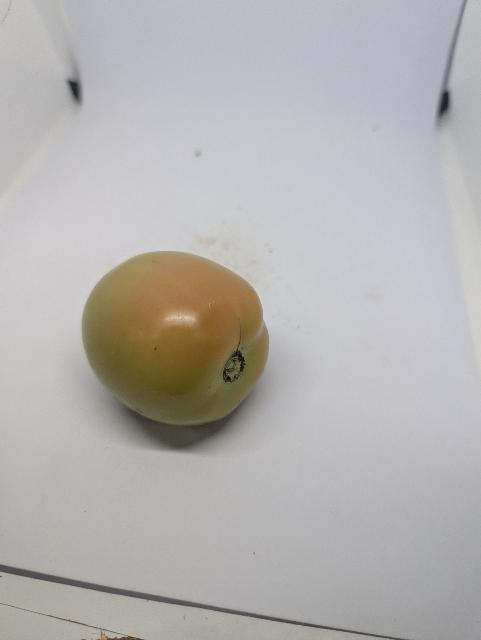breaker: (82, 251, 269, 425)
